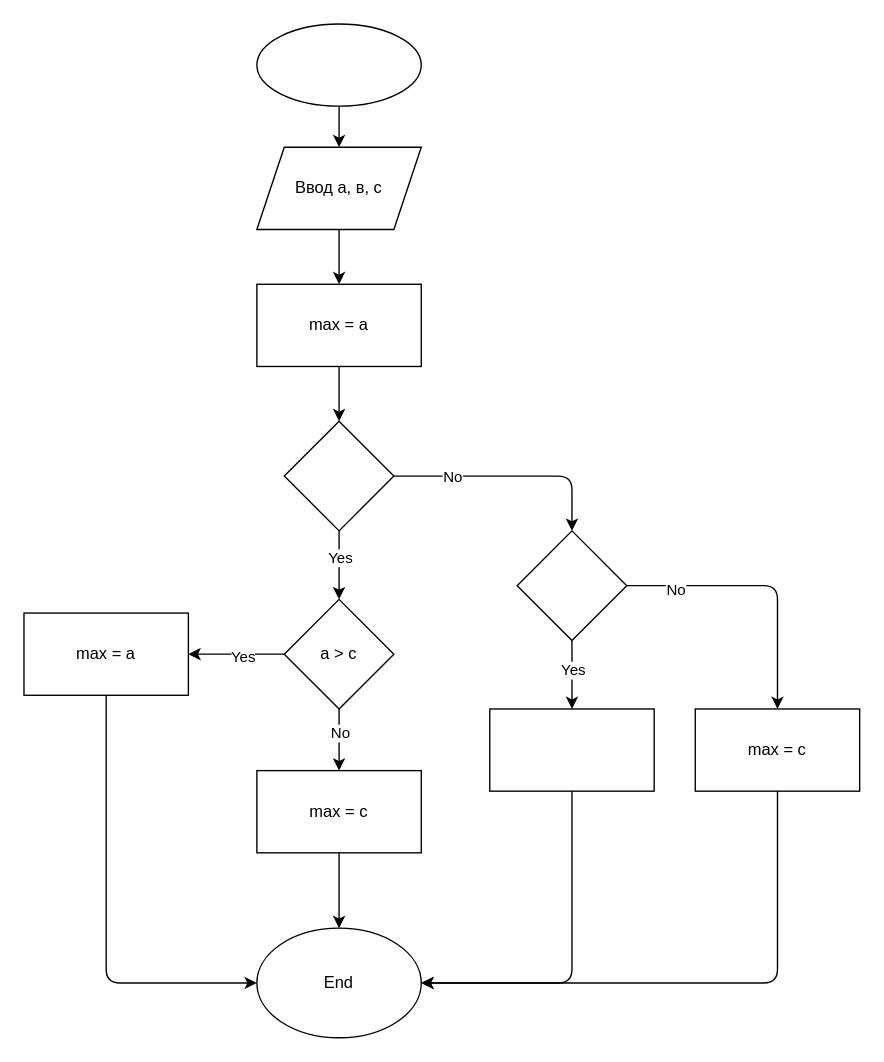
Image size: 884x1062. Some labels were removed from this diagram. Each missing label, with the centre of its shape:
a > b: point (338, 475)
b > c: point (571, 585)
max = b: point (571, 749)
Start: point (338, 64)
